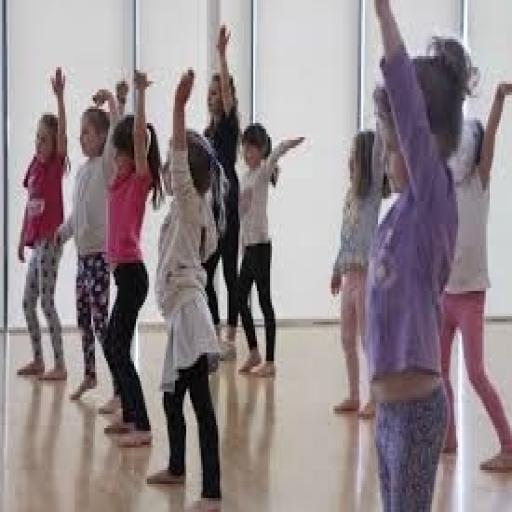dancing: (0, 31, 287, 453), (300, 36, 500, 495)
